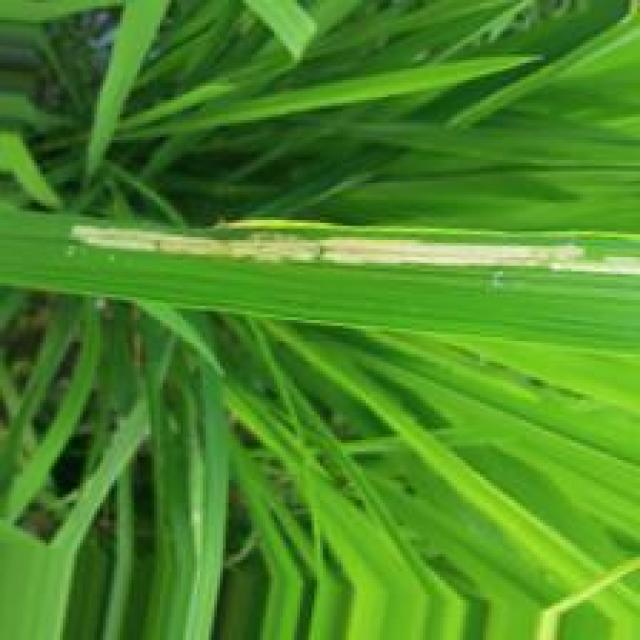Rice_Hispa: (72, 223, 640, 280)
